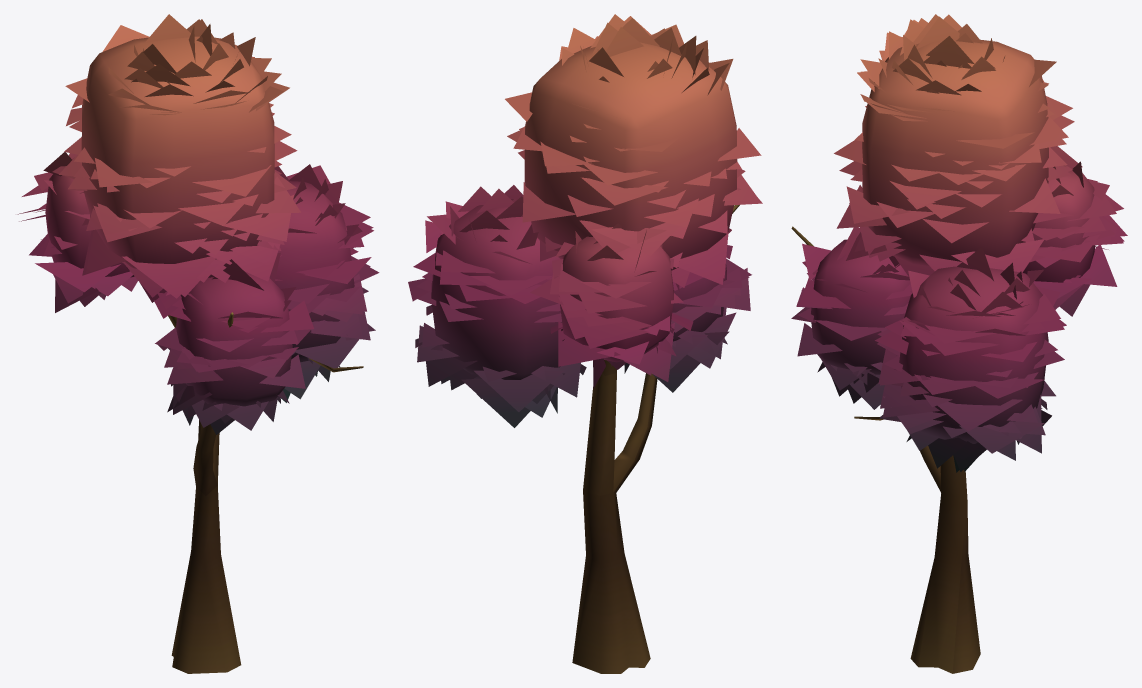
The model's file is Tree_5J.fbx.
3 views of the same model, side by side, from view 1: azimuth 30°, elevation 25°; view 2: azimuth 150°, elevation 25°; view 3: azimuth 270°, elevation 25° (orthographic). The views are drawn at different scales.
Parts seen in each view (by area): view 1: Tree_5J; view 2: Tree_5J; view 3: Tree_5J.
Boxes of the visible parts, x1=… form: Tree_5J: x1=17, y1=14, x2=379, y2=673; Tree_5J: x1=408, y1=14, x2=762, y2=673; Tree_5J: x1=791, y1=14, x2=1127, y2=673.
Size of the model in its own units: 527 by 1049 by 519.
